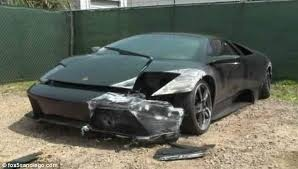Broken-glass: (129, 71, 193, 93)
Dent: (80, 66, 204, 142)
Scratch: (105, 93, 183, 143)
